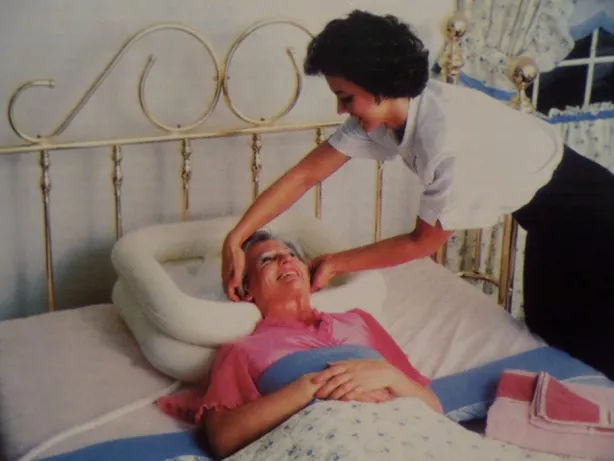Humano: (308, 16, 614, 261), (218, 226, 429, 461)
